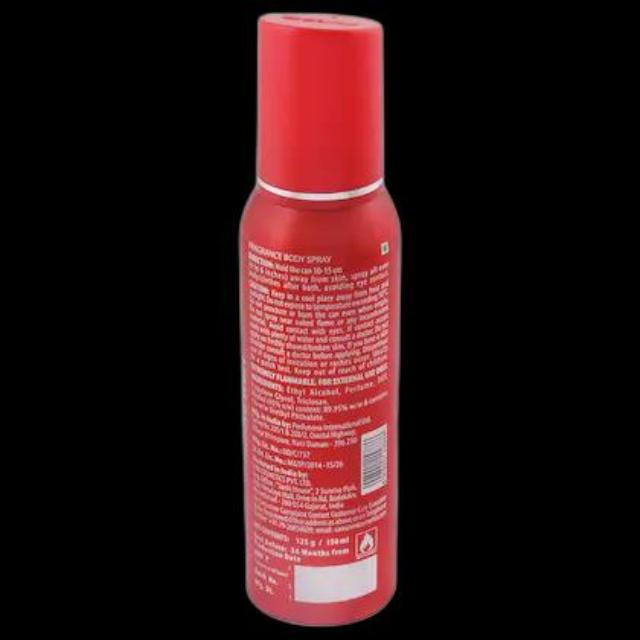Fogg Napoleon Fragrance Body Spray 150 ml: (236, 7, 396, 639)
